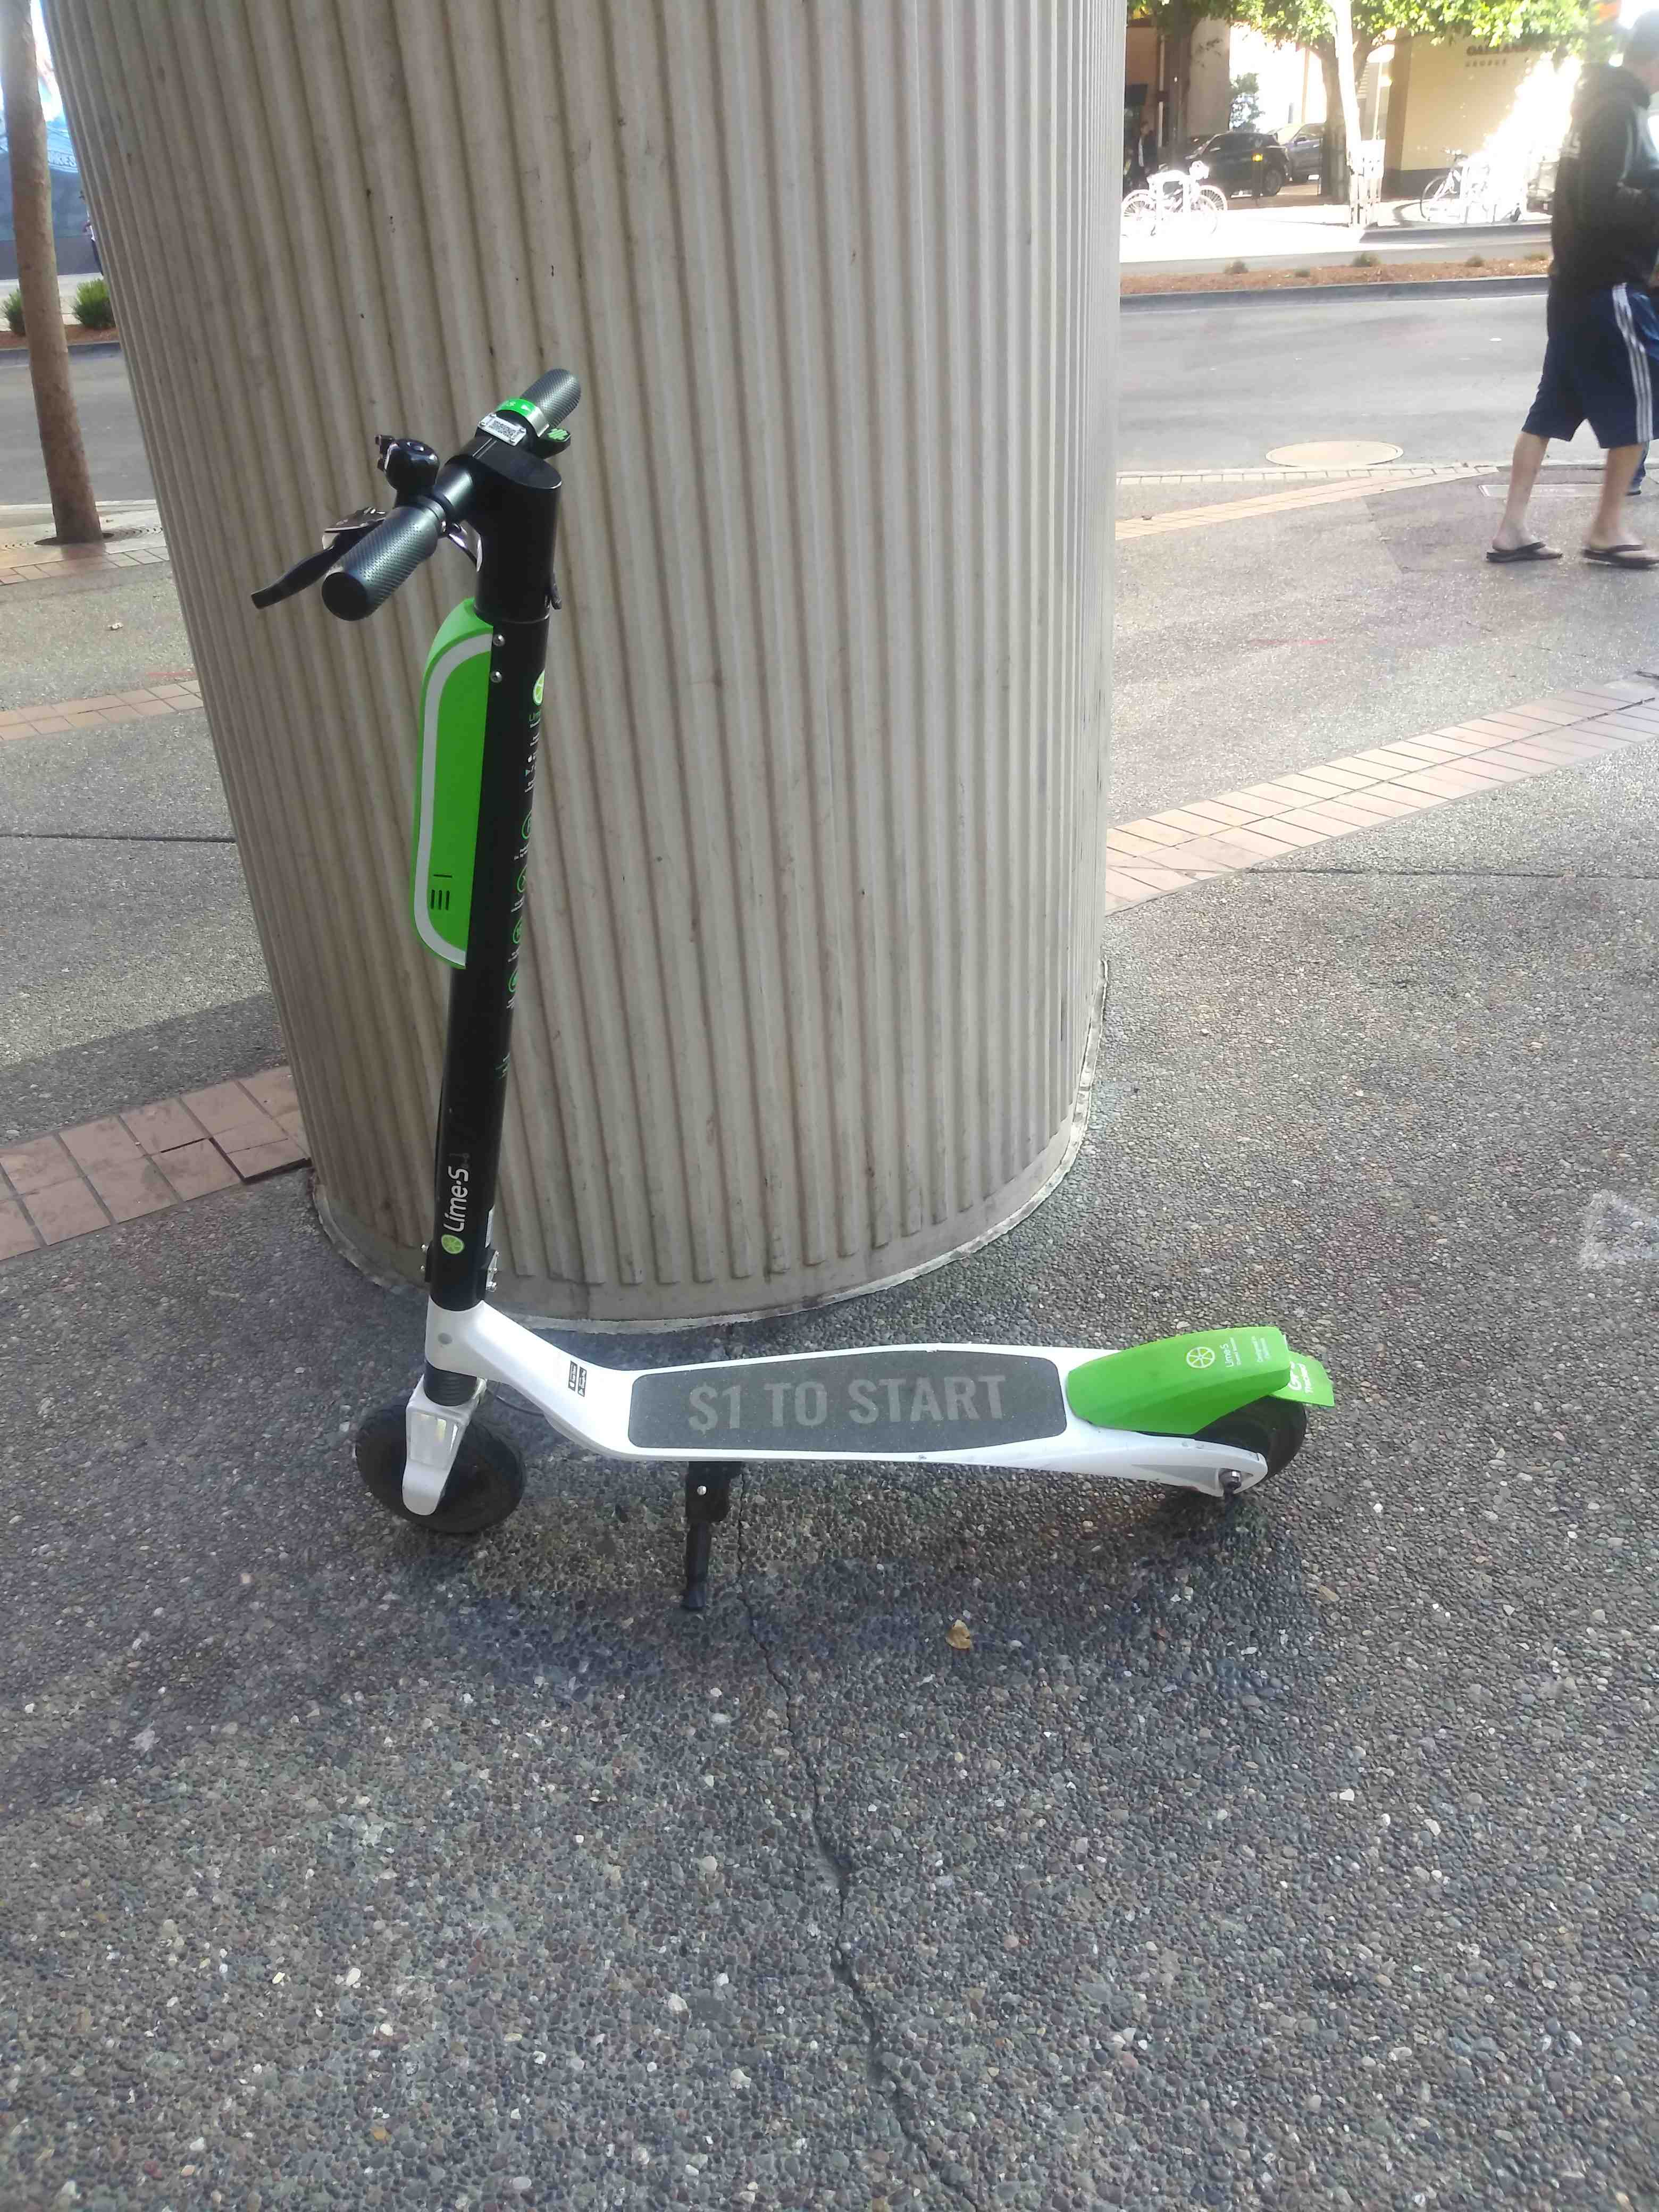scooter: (254, 327, 1373, 1590)
